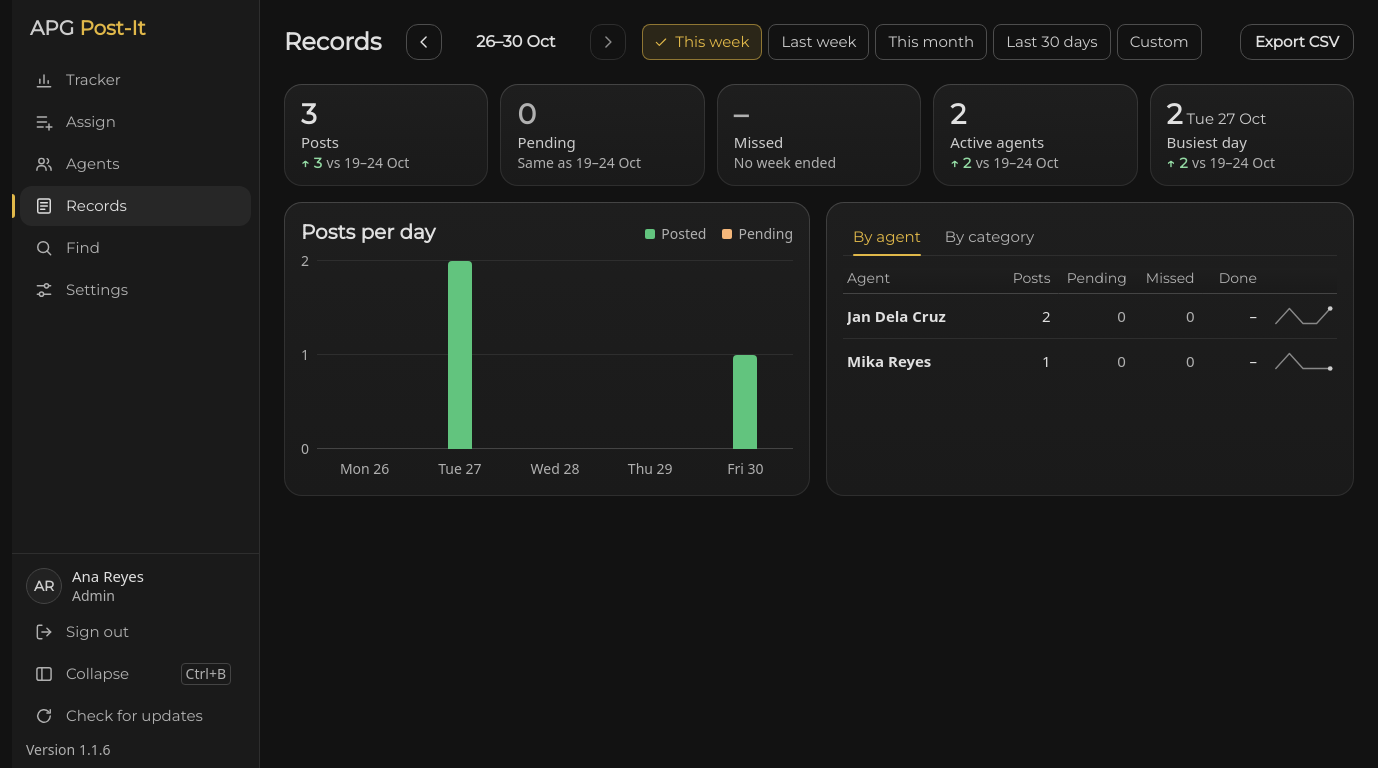
Scenario: the Records route › opens Interns on the period’s week from an intern’s row
The width and height of the screenshot is (1378, 768).
Note: September: its last week.
Click the button "This month" at (931, 42), box left=876, top=24, right=987, bottom=60
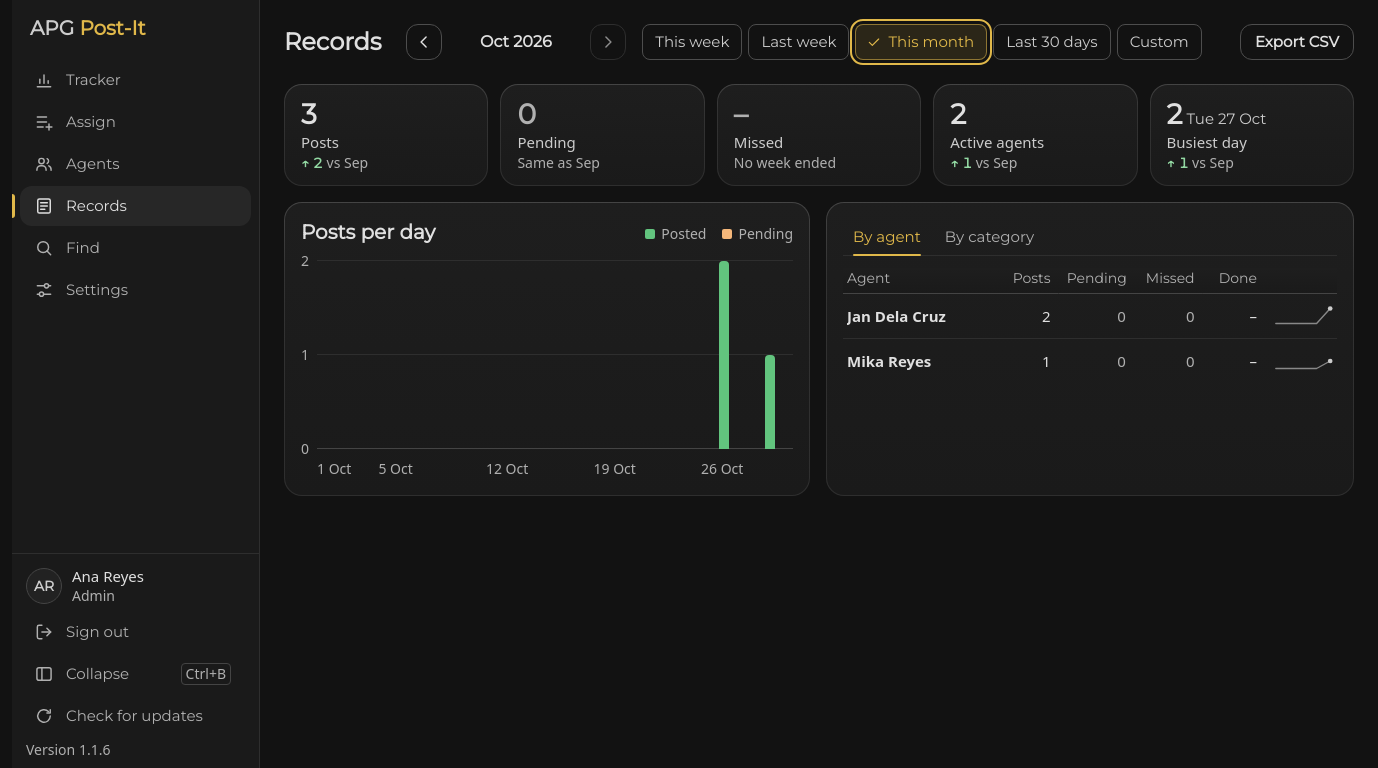
Click the 1st button named "Month before" at (424, 42), box left=406, top=24, right=442, bottom=60
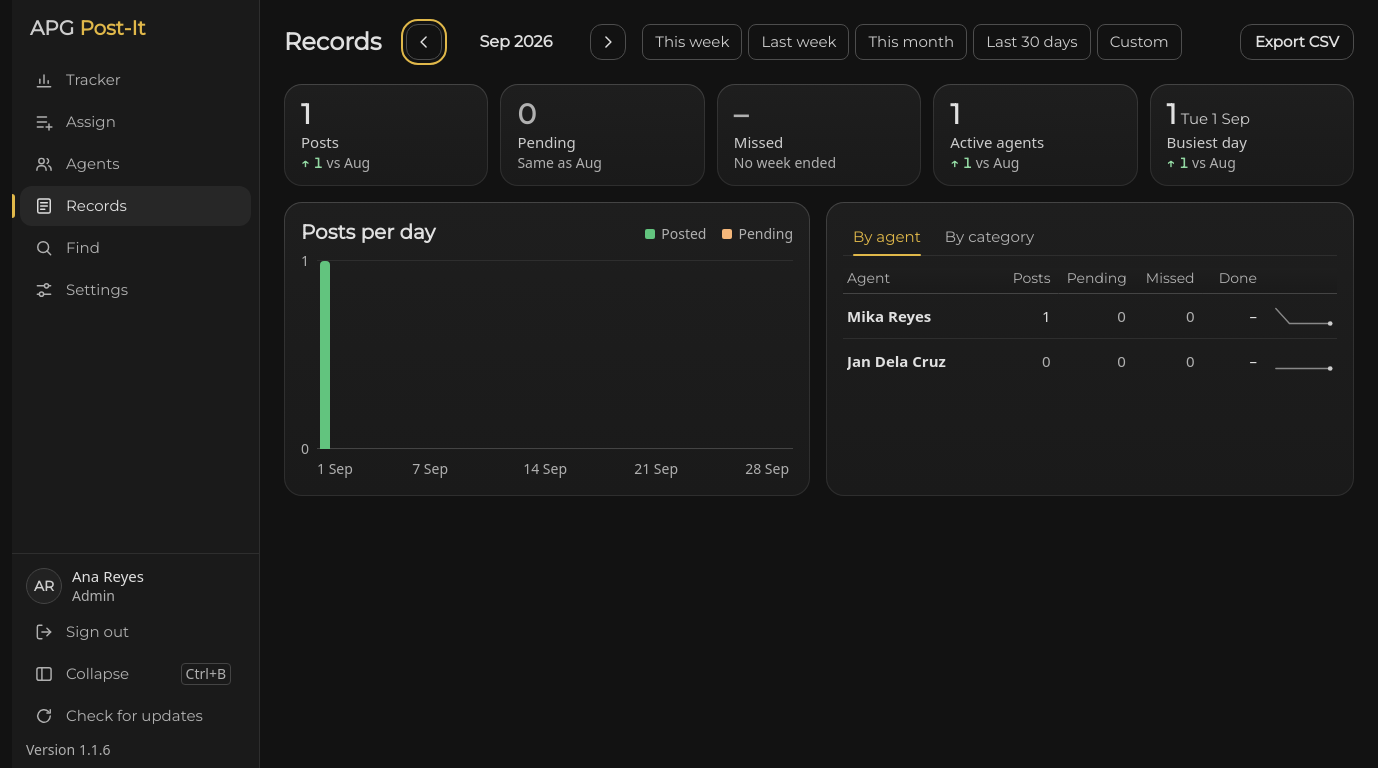
Expected: the link "Mika Reyes" has attribute href="#/interns?week=2026-09-28"
Click the link "Mika Reyes" at (889, 316), box left=847, top=306, right=931, bottom=326
(page scrolled)
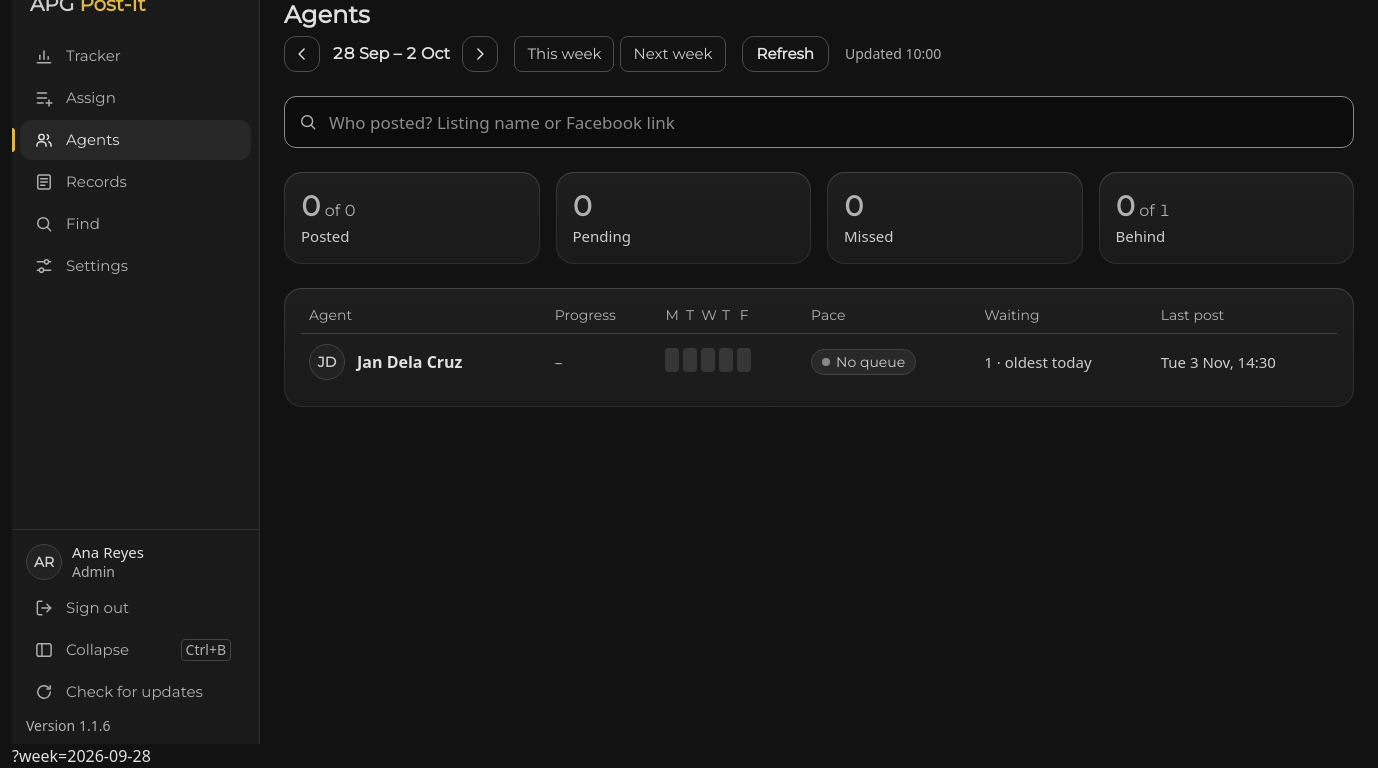
Expected: the heading "Agents" is shown, left=284, top=0, right=370, bottom=29
Expected: the text with test id "where" reads "?week=2026-09-28", left=12, top=745, right=151, bottom=767
